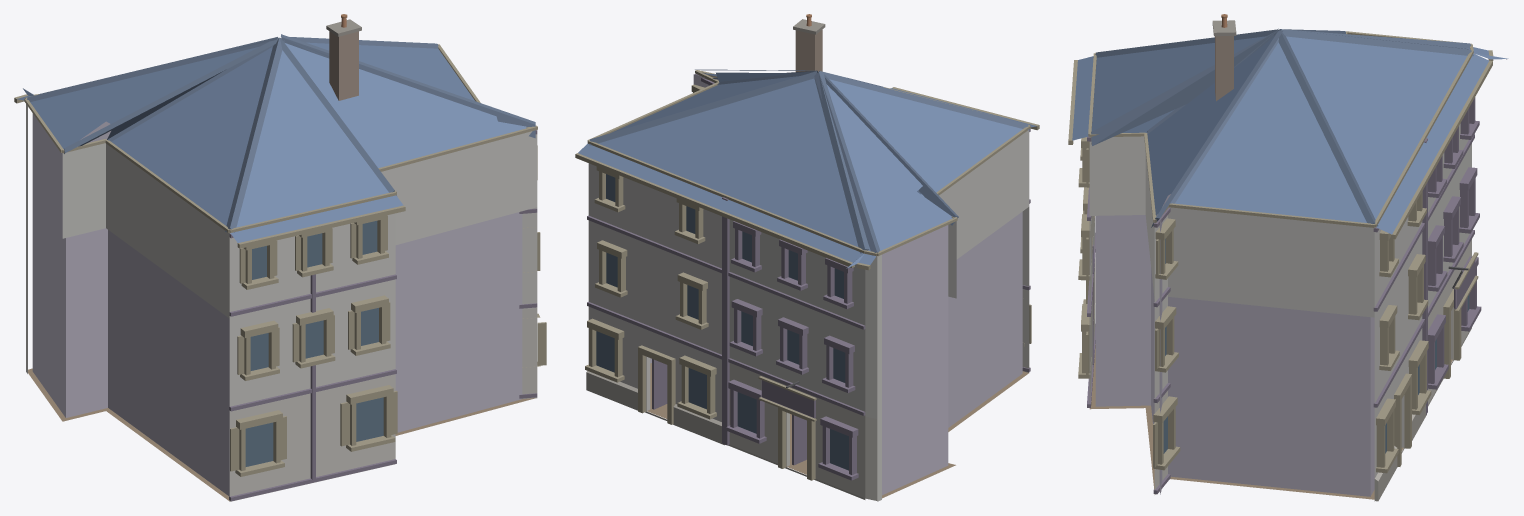
3 renders of one model, left to right at view 1: azimuth 30°, elevation 25°; view 2: azimuth 150°, elevation 25°; view 3: azimuth 270°, elevation 25°, orthographic. The views are drawn at different scales.
Parts seen in each view (by area): view 1: B005_visible; view 2: B005_visible; view 3: B005_visible.
Part boxes in pixels (x1,y1,x2,y2): B005_visible: (14, 14, 546, 501); B005_visible: (575, 14, 1039, 501); B005_visible: (1068, 14, 1508, 501).
Bounding box in the file's own units: 14.72 × 14.16 × 14.04.
